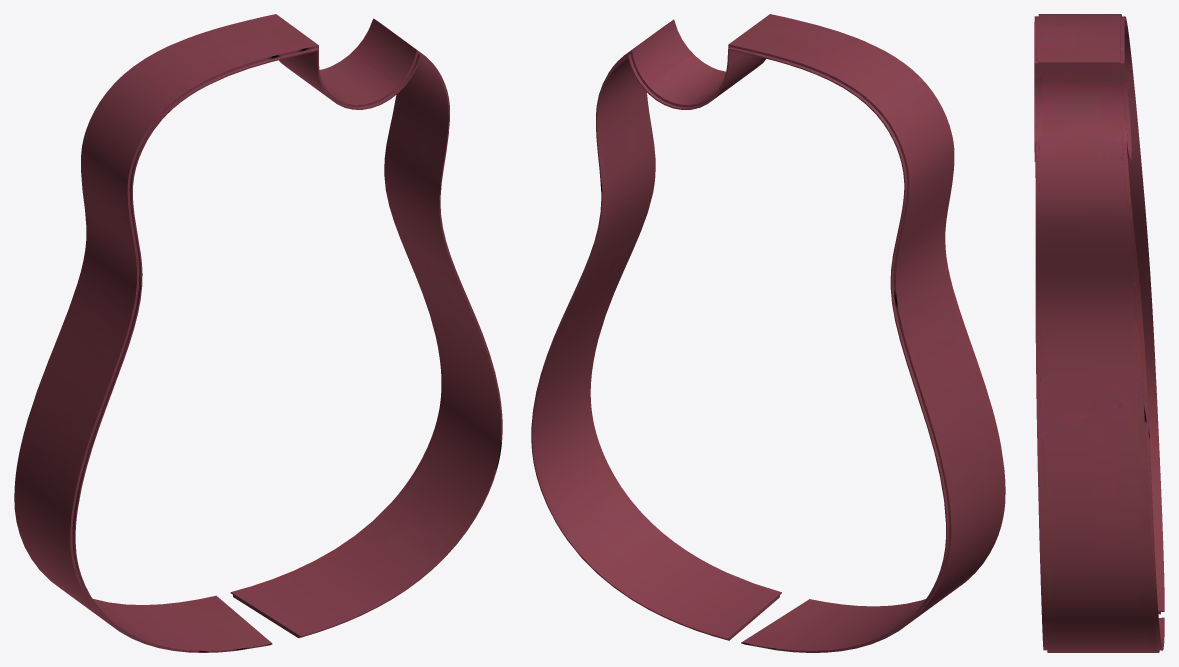
Rendered from Body_Sides_Florentine_Cutaway-transformed.glb.
The picture shows the model from 3 angles, left to right: view 1: azimuth 30°, elevation 25°; view 2: azimuth 150°, elevation 25°; view 3: azimuth 270°, elevation 25°; orthographic projection. The views are drawn at different scales.
Visible parts, largest first — view 1: Body_Sides_Florentine_Cutaway.001_Baked; view 2: Body_Sides_Florentine_Cutaway.001_Baked; view 3: Body_Sides_Florentine_Cutaway.001_Baked.
Boxes of the visible parts, x1,y1,x2,y2 form: Body_Sides_Florentine_Cutaway.001_Baked: (14,14,502,652); Body_Sides_Florentine_Cutaway.001_Baked: (531,14,1005,652); Body_Sides_Florentine_Cutaway.001_Baked: (1034,14,1164,652).
Size of the model in its own units: 0.3916 by 0.5137 by 0.1068.
1 material, 1 textured.
